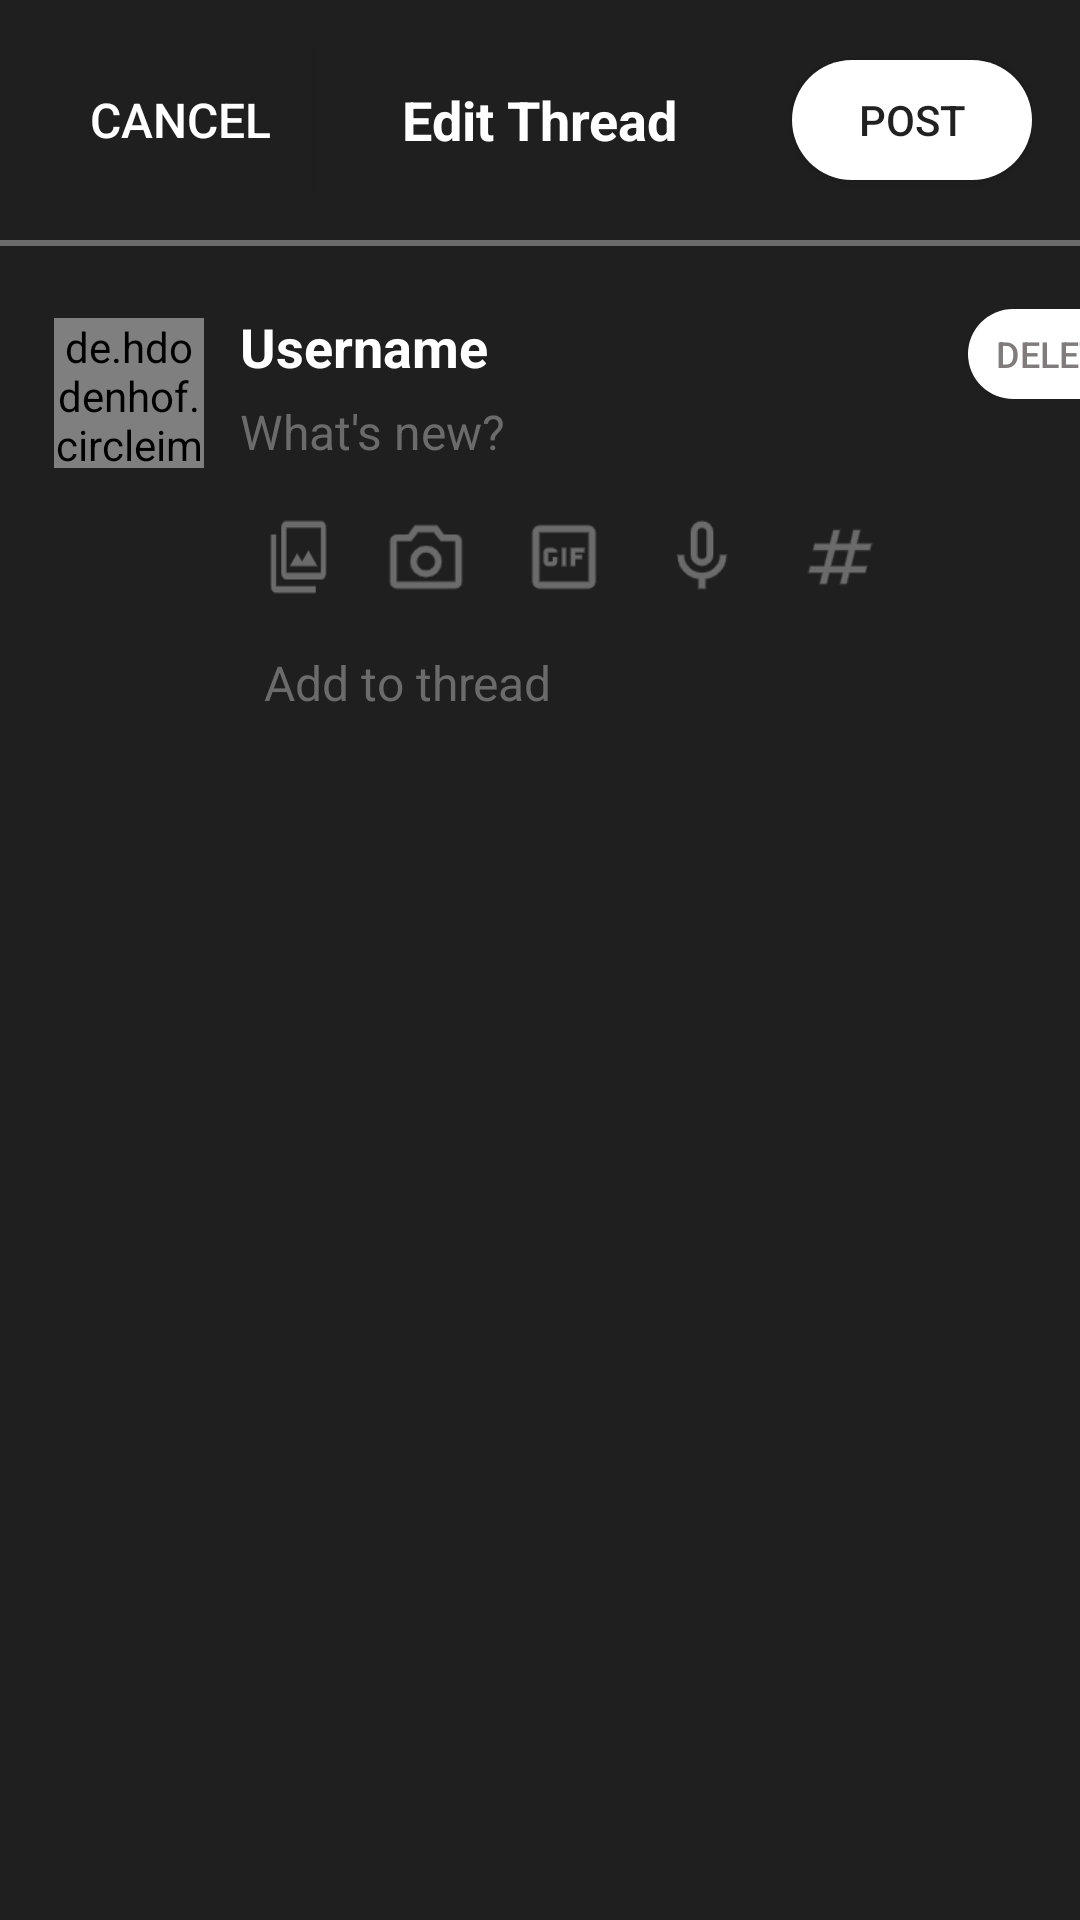

Icons on this 1080x1920 Android screen, each with its box as BBox(x1, y1, x2, y2):
camera: BBox(390, 525, 462, 589)
mic: BBox(677, 521, 727, 589)
photo: BBox(271, 521, 326, 593)
tag: BBox(808, 530, 872, 584)
